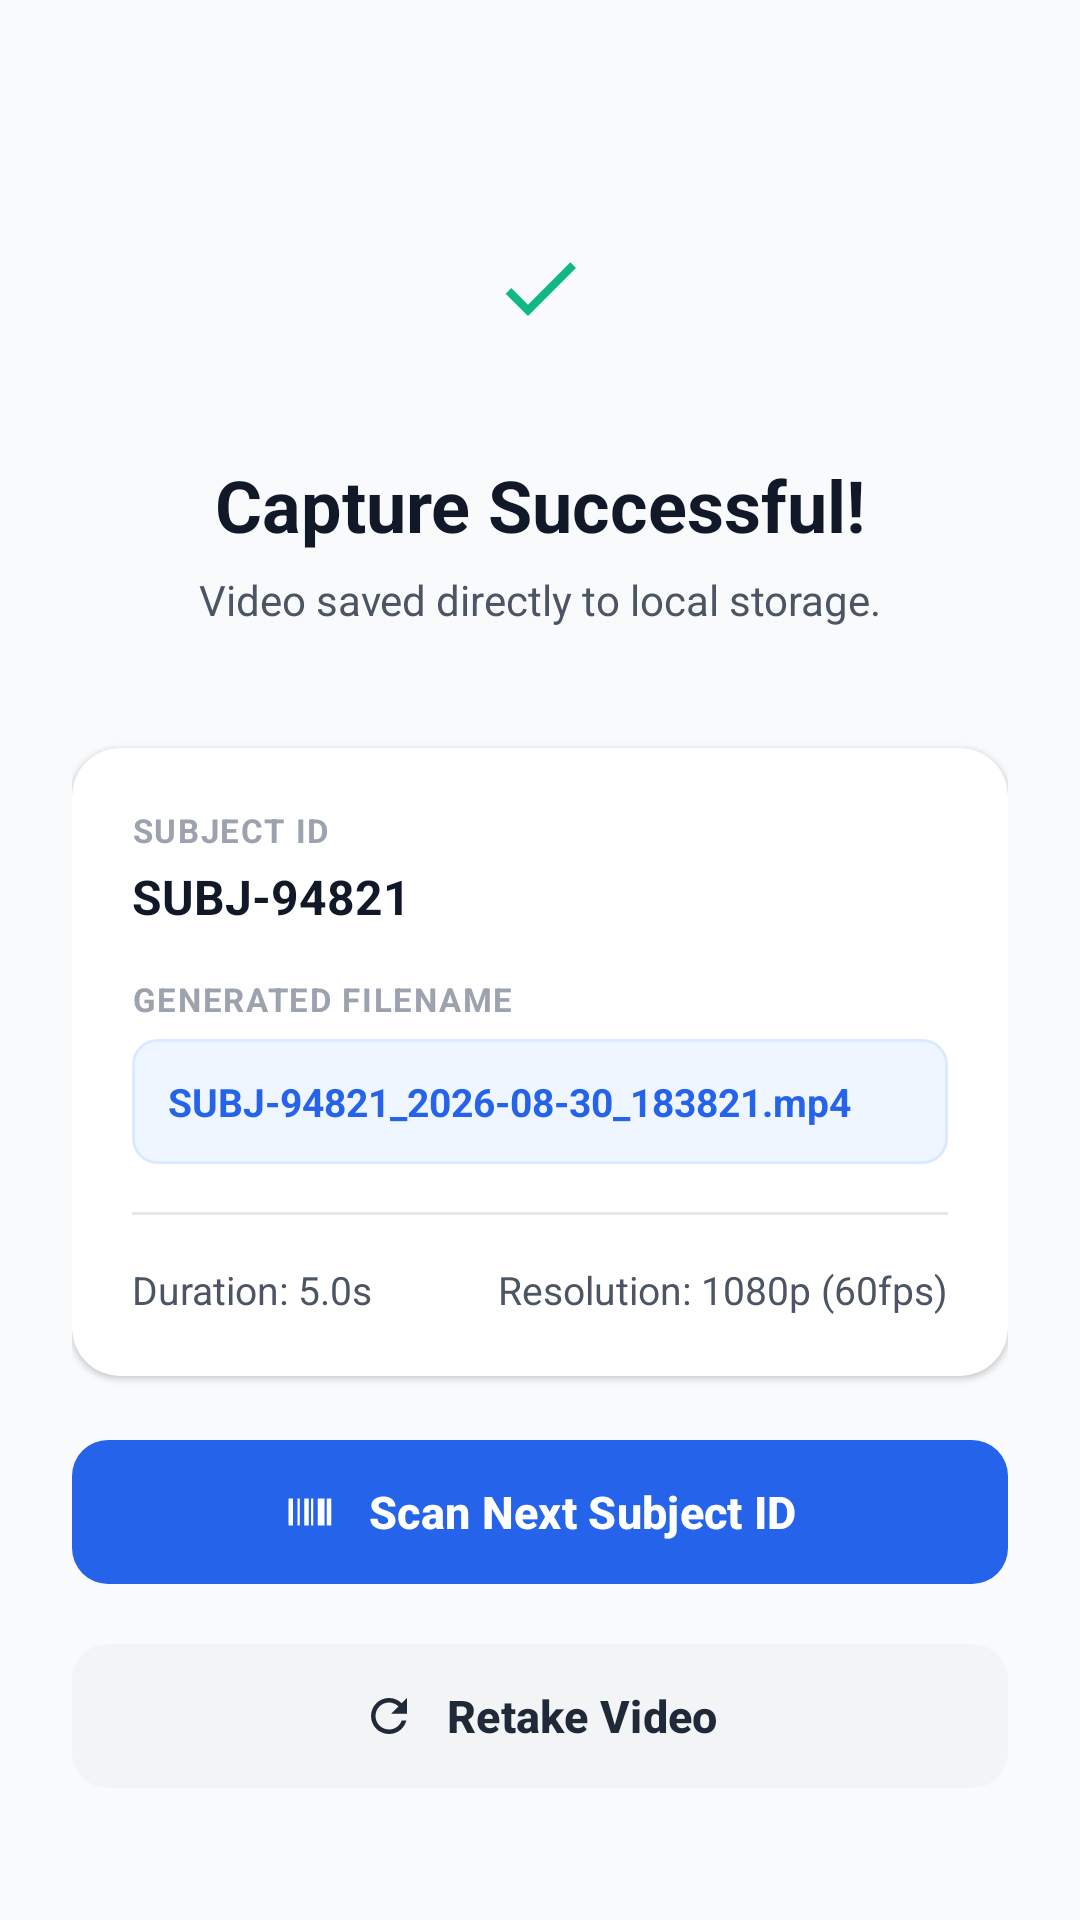

Screen size 1080px x 1920px. Icon name, then its center in pixels as [x,y]:
check: [540,289]
